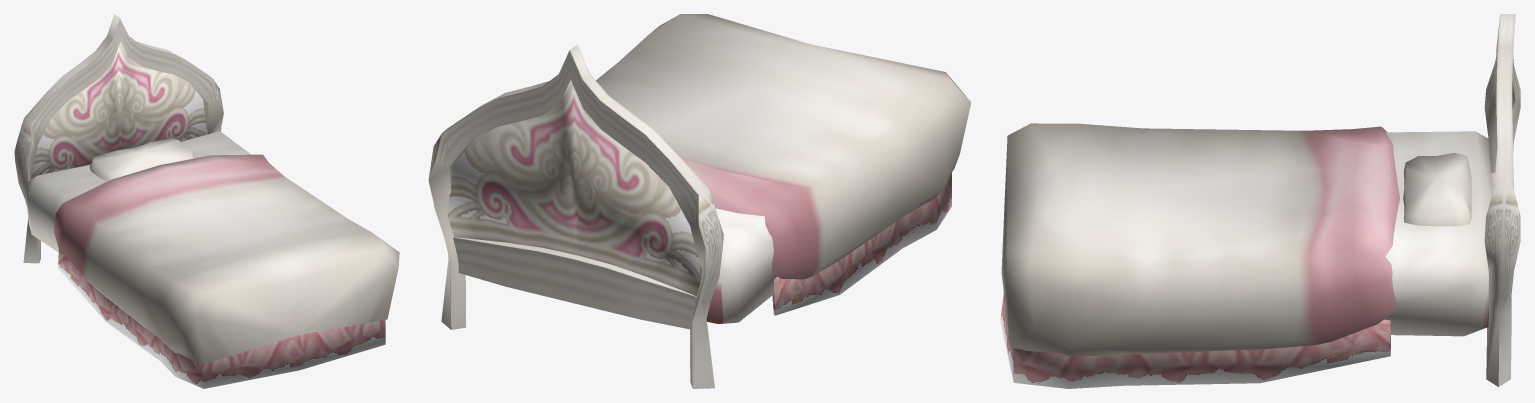
Rendered from RococoBed_HD.fbx.
The picture shows the model from 3 angles, left to right: view 1: azimuth 30°, elevation 25°; view 2: azimuth 150°, elevation 25°; view 3: azimuth 270°, elevation 25°; orthographic projection. The views are drawn at different scales.
Visible parts, largest first — view 1: RococoBed; view 2: RococoBed; view 3: RococoBed.
Part boxes in pixels (left/top/right/bottom): RococoBed: left=14, top=14, right=399, bottom=388; RococoBed: left=428, top=14, right=971, bottom=388; RococoBed: left=1000, top=14, right=1520, bottom=388.
Bounding box in the file's own units: 1.33 × 1.27 × 1.94.
